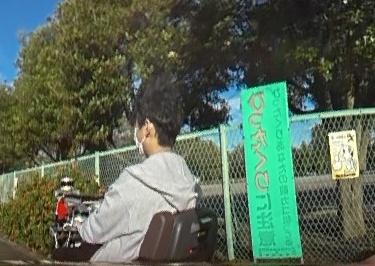person: (95, 77, 188, 266)
